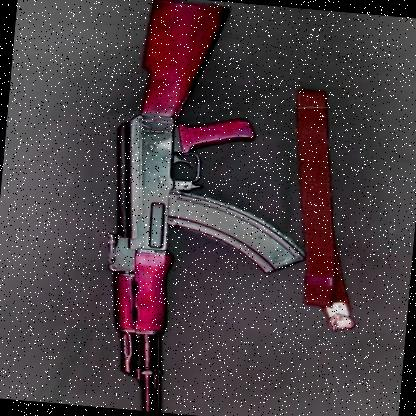rifle: (67, 0, 323, 416)
